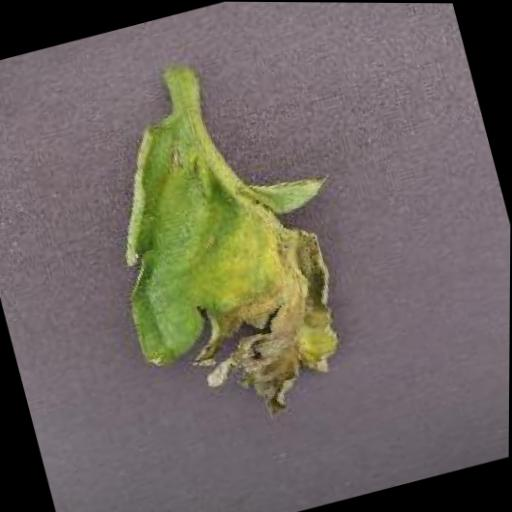Late Blight: (81, 70, 379, 442)
